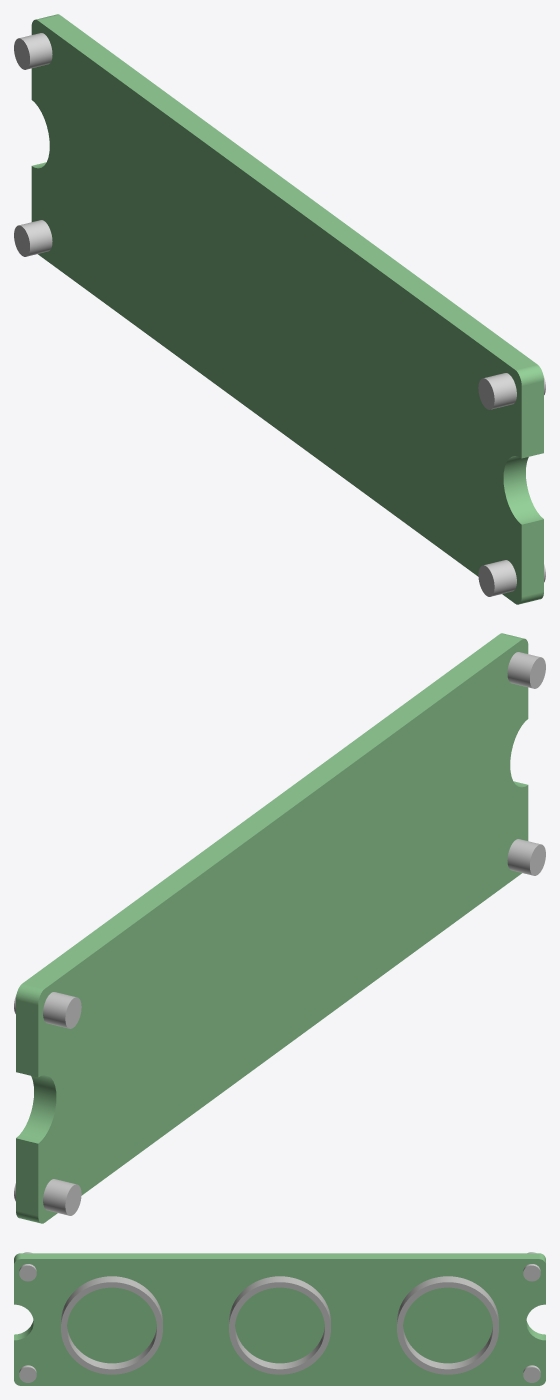
File: Astro_Vac_O_Sensor_Board.fbx
3 views of the same model, one above another, from view 1: azimuth 30°, elevation 25°; view 2: azimuth 150°, elevation 25°; view 3: azimuth 270°, elevation 25° (orthographic). The views are drawn at different scales.
Parts seen in each view (by area): view 1: LeftSensorC; view 2: LeftSensorC; view 3: LeftSensorC.
Boxes of the visible parts, left/top/right/bottom form: LeftSensorC: left=14, top=14, right=545, bottom=604; LeftSensorC: left=14, top=633, right=545, bottom=1223; LeftSensorC: left=14, top=1252, right=545, bottom=1385.
Size of the model in its own units: 0.762 by 2.54 by 9.65.
